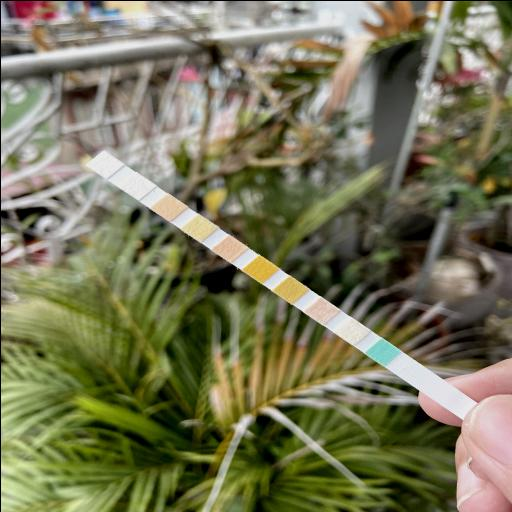Bilirubin: (342, 323, 360, 338)
Blood: (249, 262, 269, 276)
Glucose: (372, 344, 392, 358)
Ketone: (311, 303, 331, 317)
Leukocytes: (94, 156, 114, 170)
Nitrite: (127, 178, 145, 193)
Protein: (189, 220, 207, 234)
SpGravity: (278, 282, 298, 296)
Urobilinogen: (160, 200, 178, 214)
pH: (220, 240, 240, 254)
strip: (85, 150, 477, 419)
